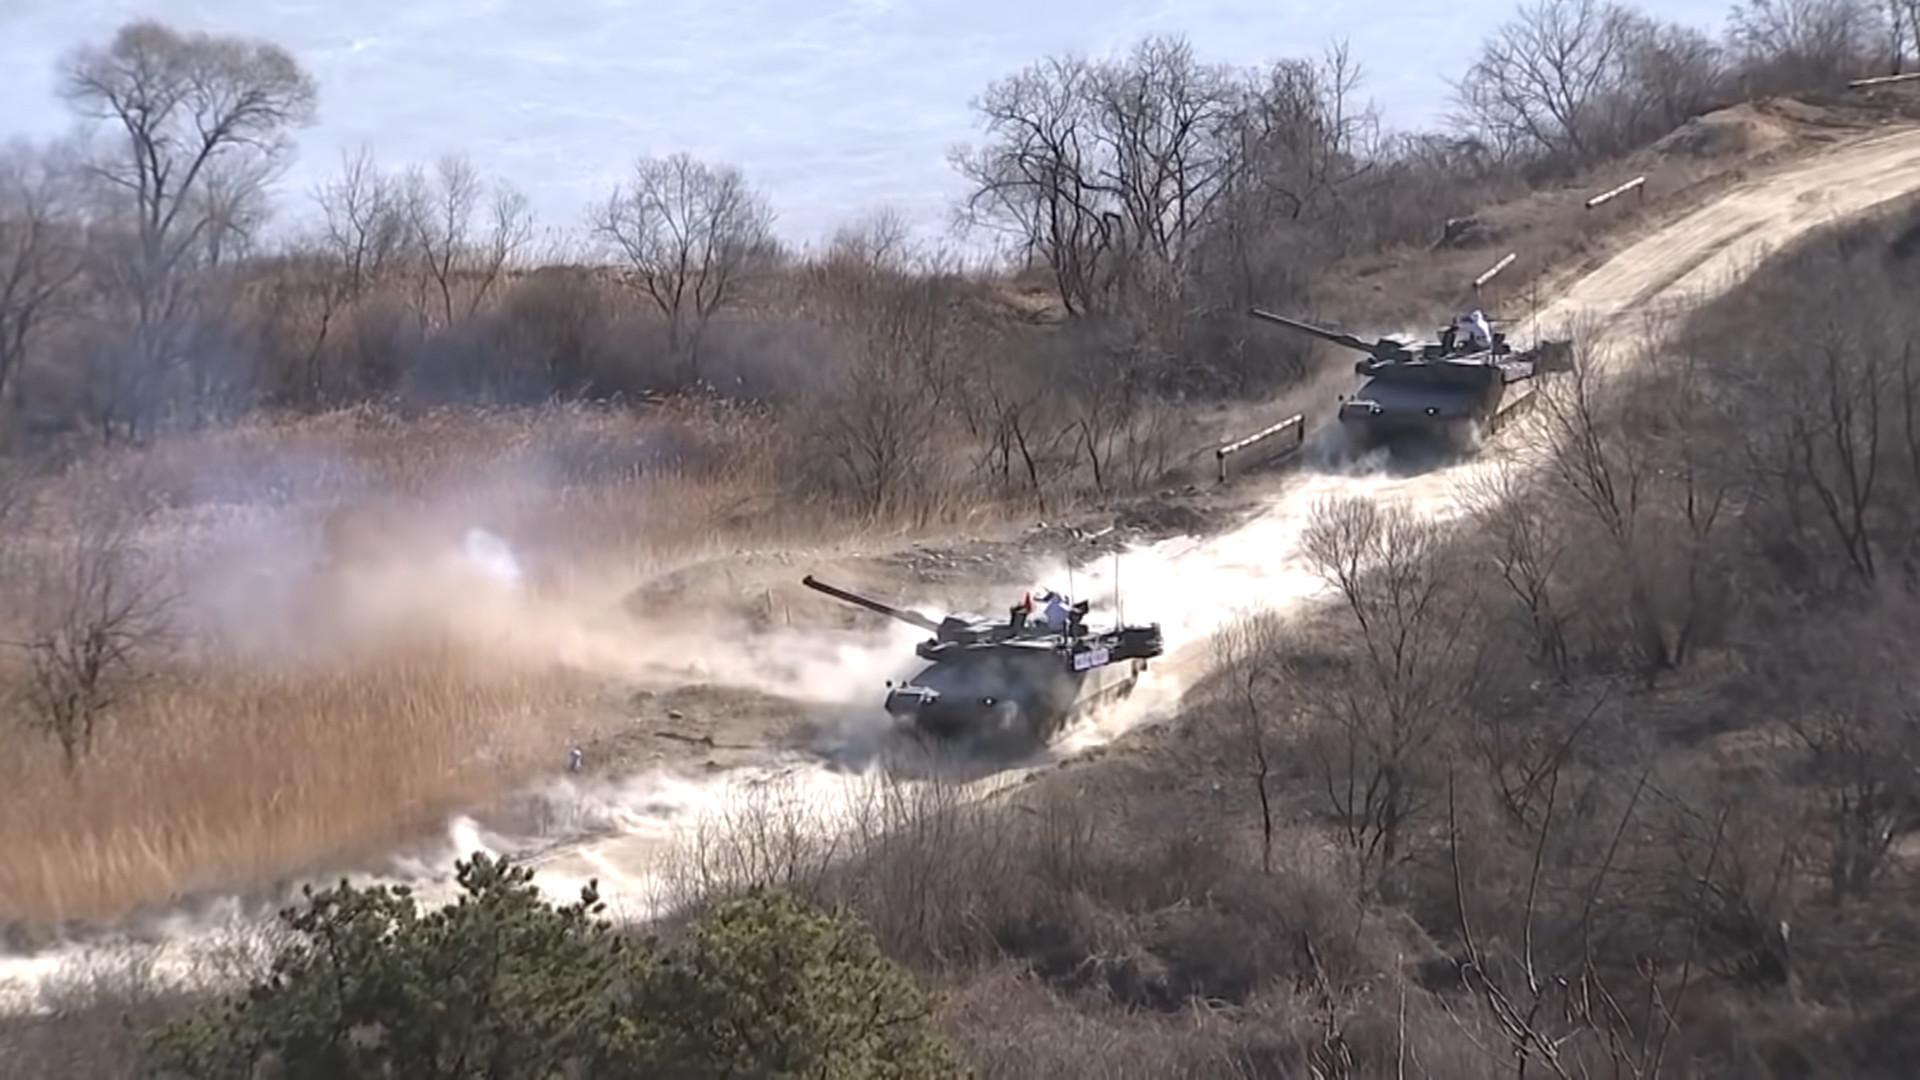tank: (806, 576, 1160, 746), (1249, 306, 1539, 454)
